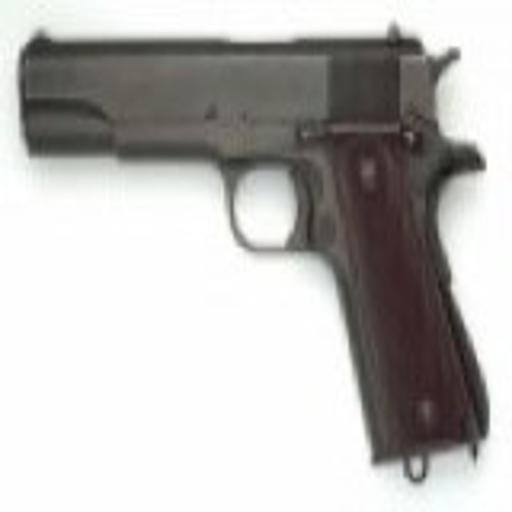Handgun: (21, 37, 495, 476)
